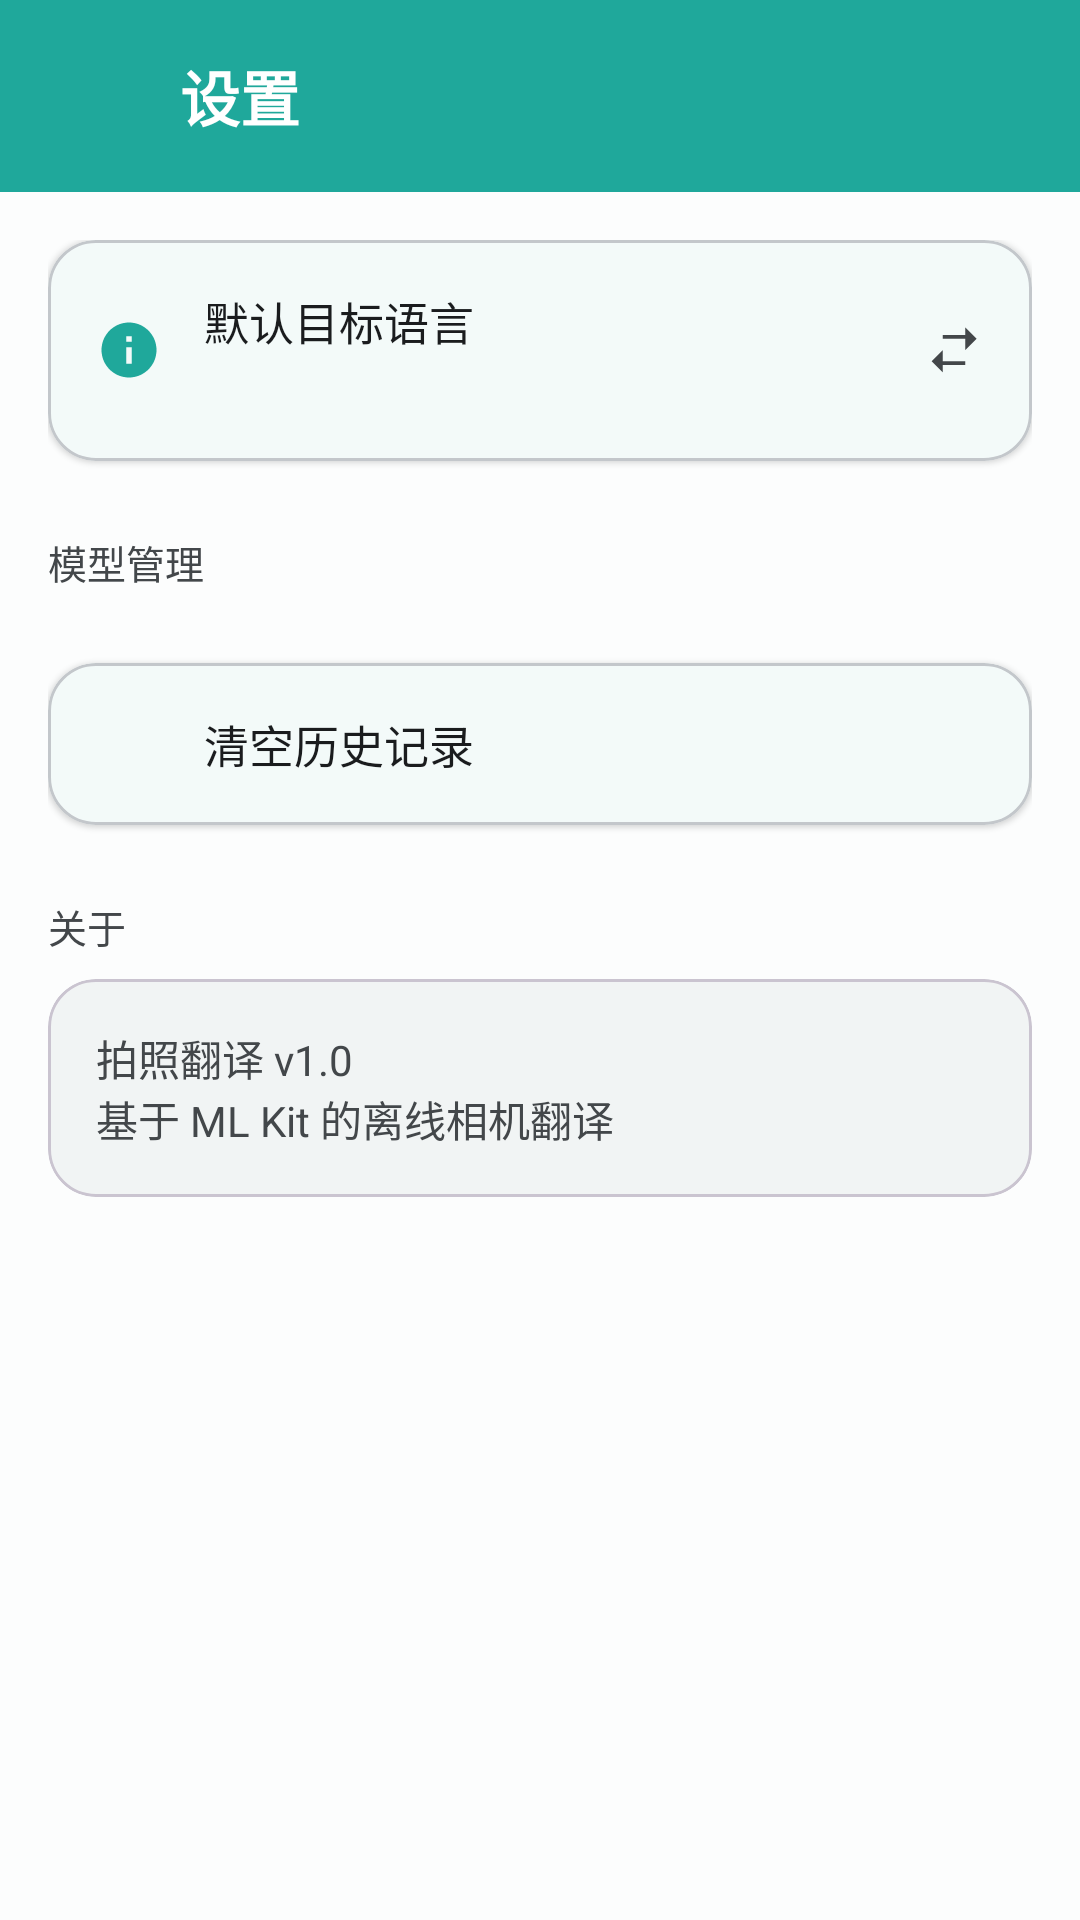

Named icons in this screenshot (1080 x 1920) and their centers, (x,y):
swap: (954,349)
